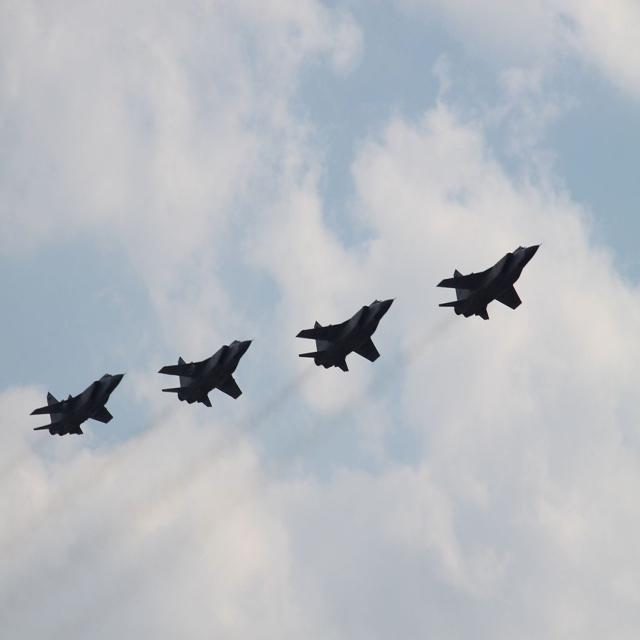MIL_Plane: (436, 241, 544, 320), (295, 296, 397, 372), (157, 337, 255, 407), (29, 371, 127, 436)
